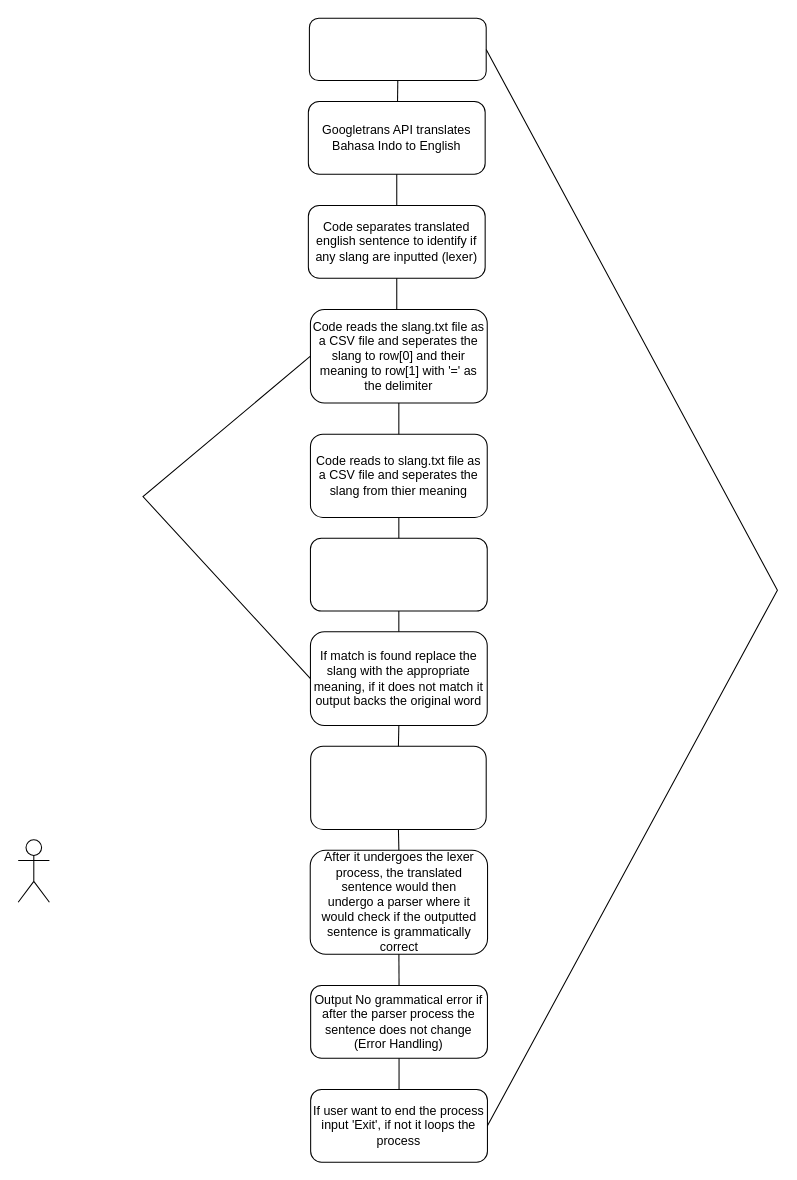
Some shapes in this 797 by 1180 pixel diagram are drawn without their labels. Each missing label, with the box of its shape:
Actor: (17, 839, 49, 902)
Code check if the inputted word matches the slang in txt file: (309, 537, 487, 611)
Input sentence in Bahasa Indo: (308, 17, 486, 81)
Output slang not found if no slang were added (Error Handling): (310, 745, 486, 829)
